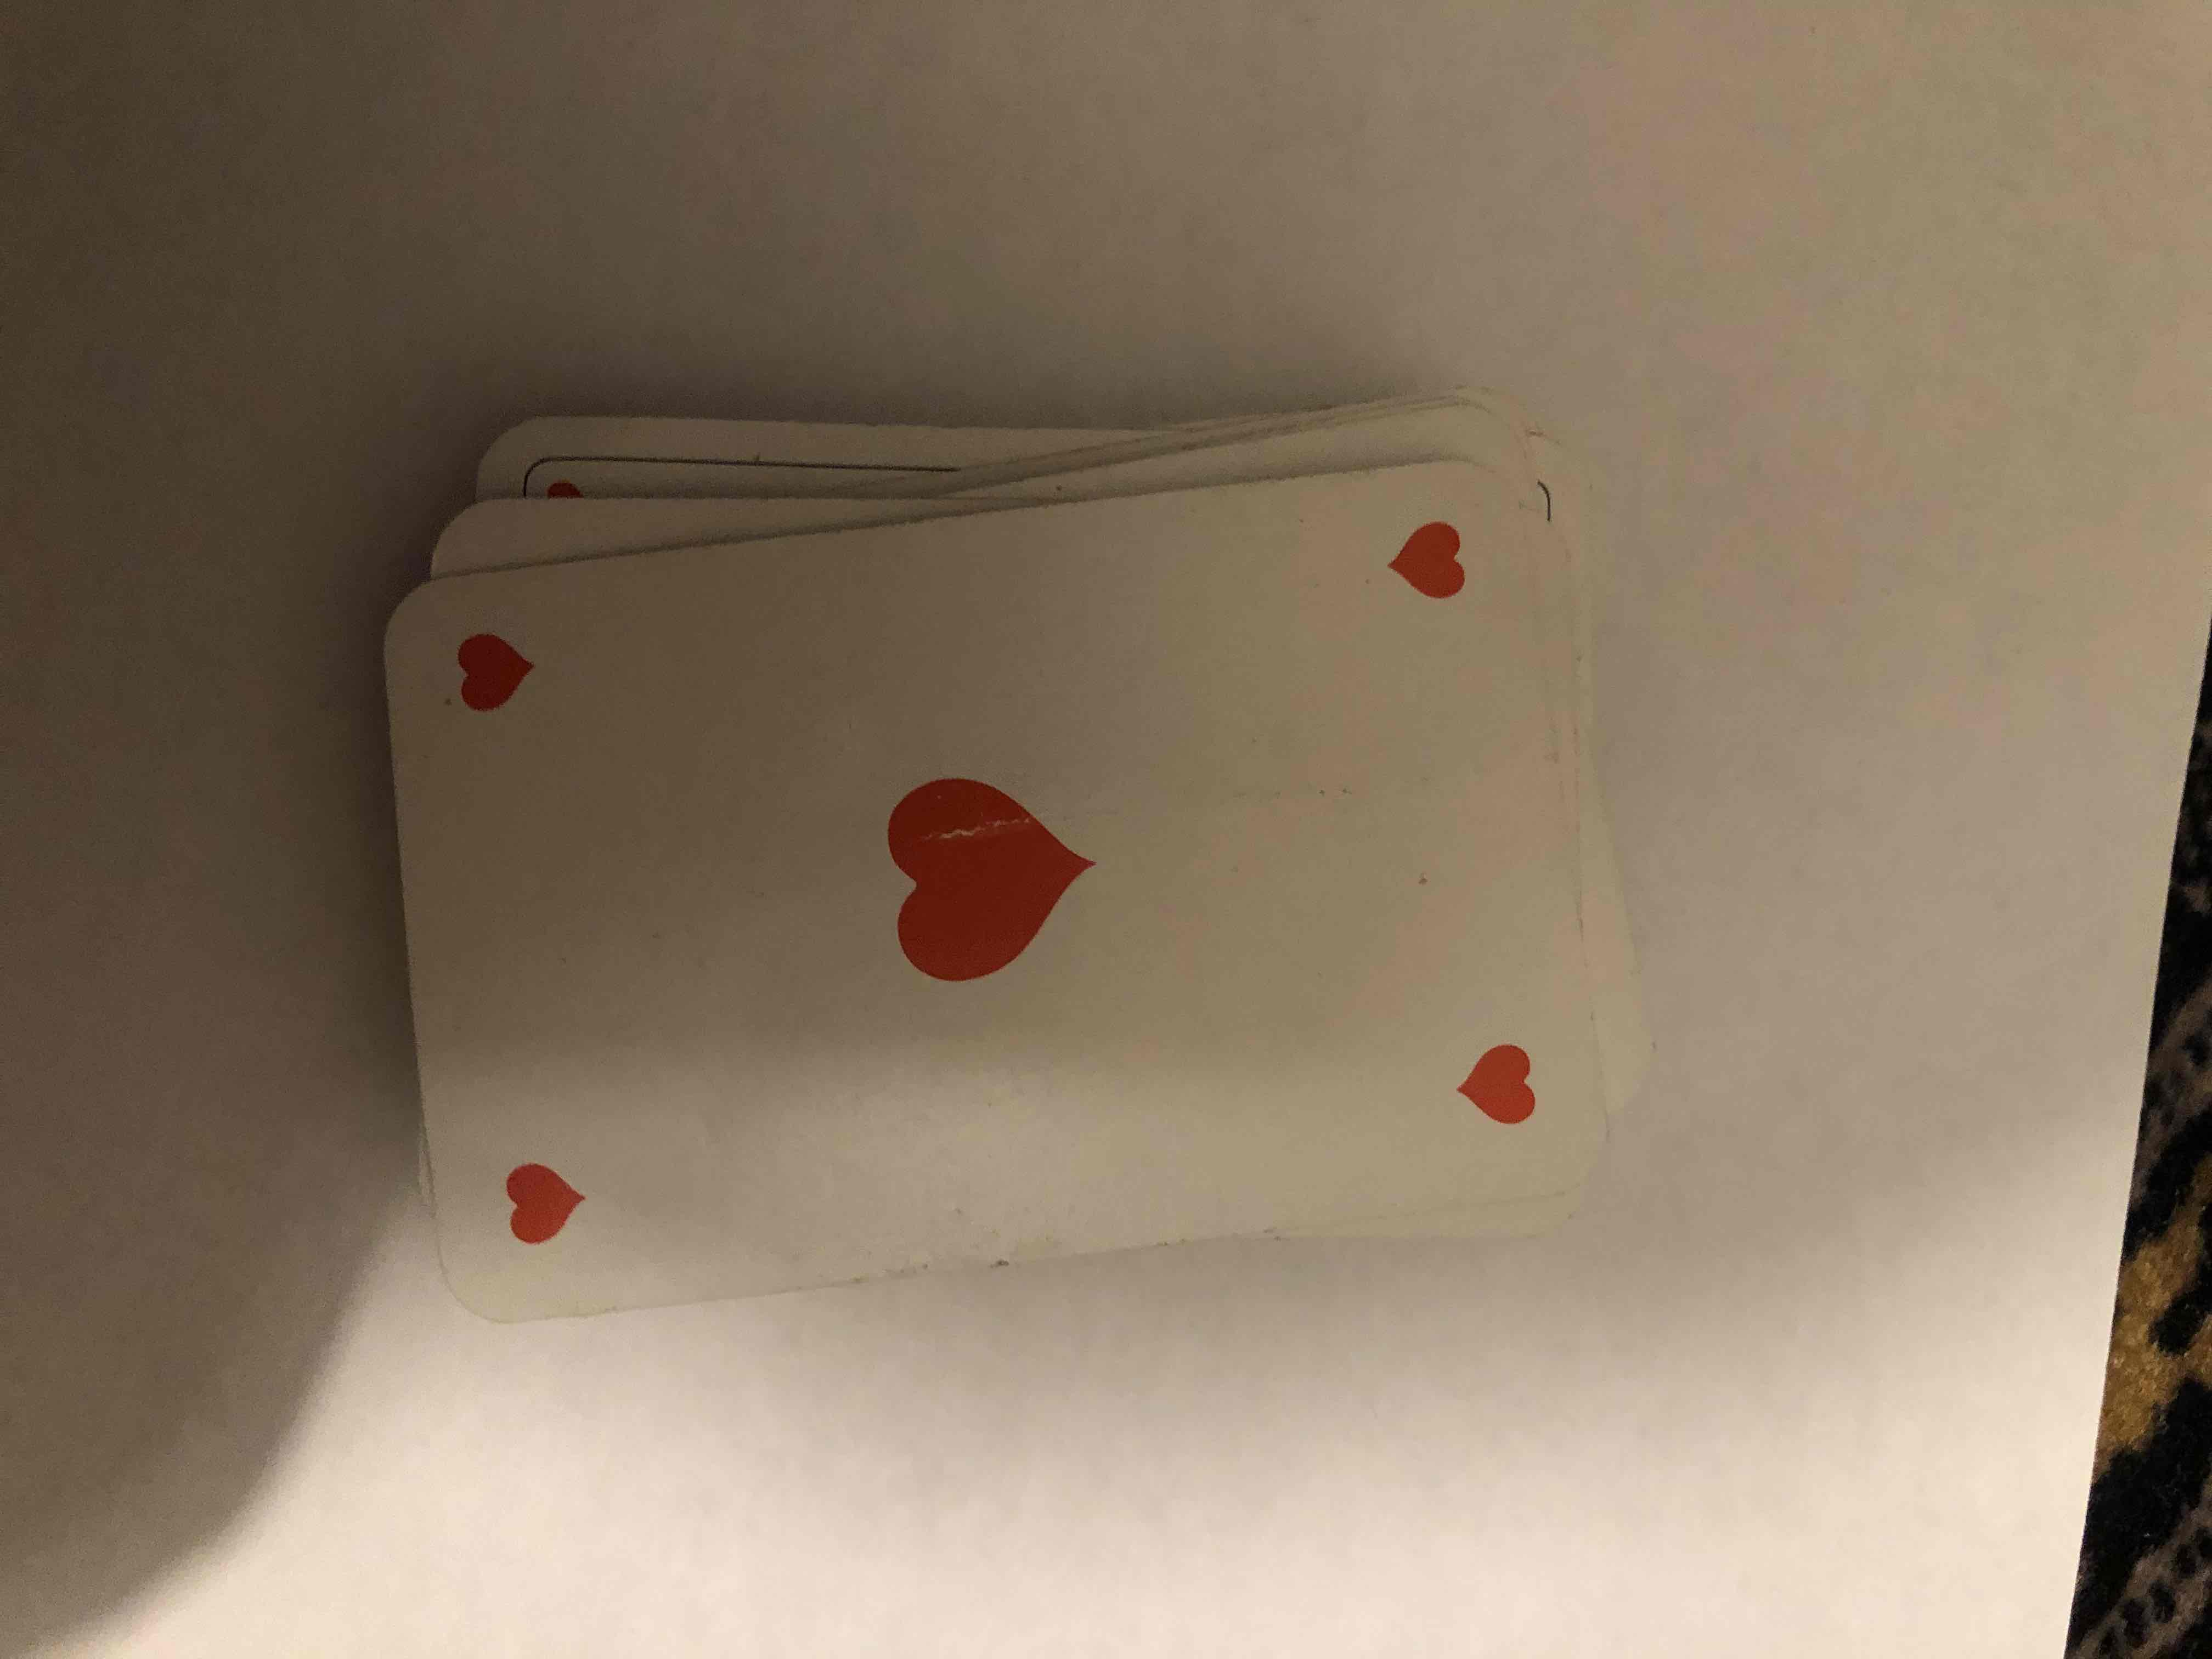heartsAce: (432, 469, 1609, 1276)
